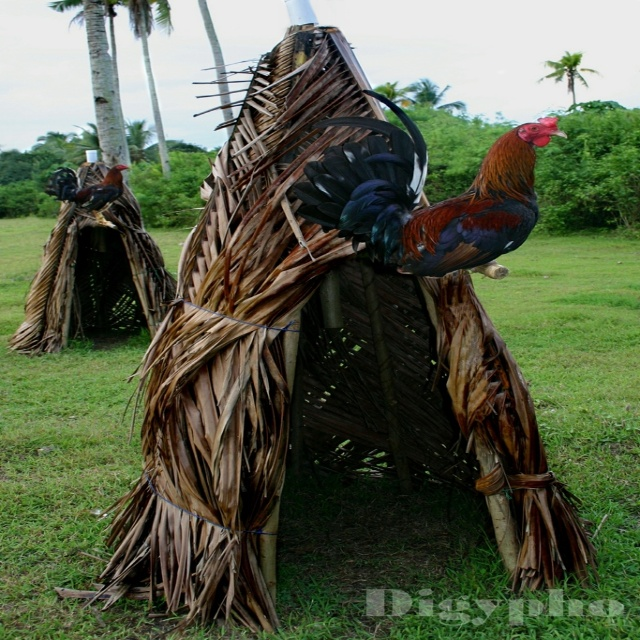Chicken: (343, 108, 570, 297), (39, 165, 132, 225)
